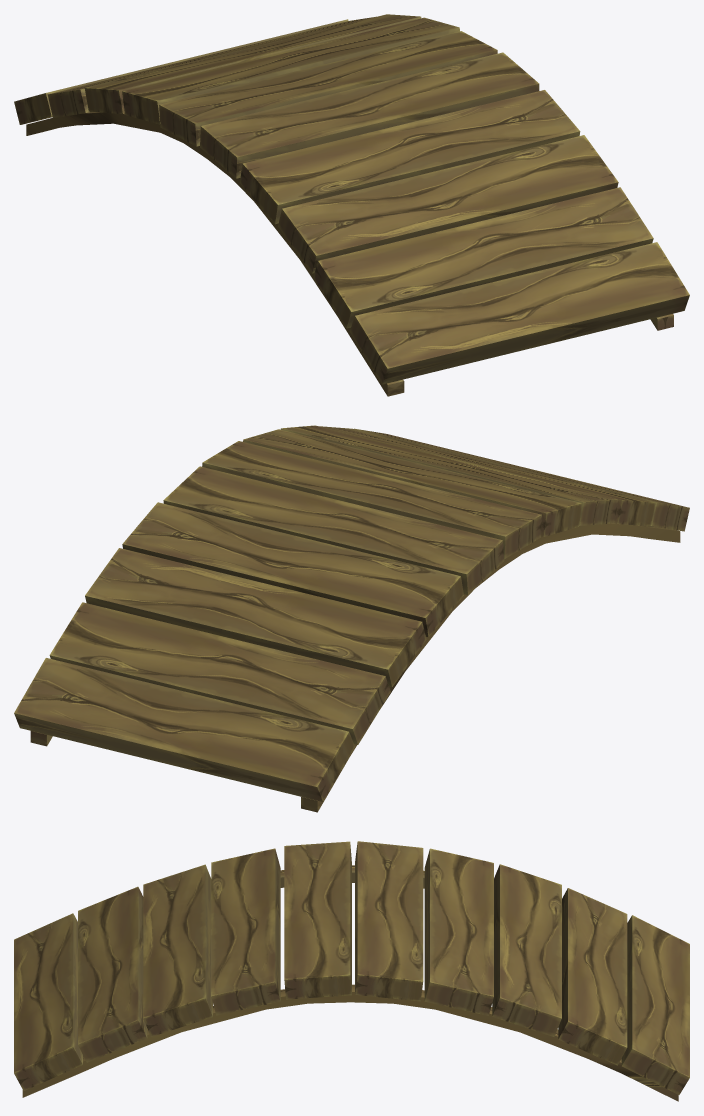
File: bridge.ALT3.fbx
The picture shows the model from 3 angles, top to bottom: view 1: azimuth 30°, elevation 25°; view 2: azimuth 150°, elevation 25°; view 3: azimuth 270°, elevation 25°; orthographic projection. The views are drawn at different scales.
Parts seen in each view (by area): view 1: Cube.029, Cube.028, Cube.027, Cube.026, Cube.025, Cube.024, Cube.023, Cube.022, Cube.018, Cube.019, Cube.014; view 2: Cube.014, Cube.019, Cube.022, Cube.023, Cube.024, Cube.025, Cube.026, Cube.027, Cube.018, Cube.028, Cube.029; view 3: Cube.026, Cube.023, Cube.024, Cube.027, Cube.022, Cube.025, Cube.019, Cube.028, Cube.029, Cube.014, Cube.018.
Part boxes in pixels (bbox=[...]): Cube.029: bbox=[349, 242, 689, 384]; Cube.028: bbox=[313, 187, 653, 328]; Cube.027: bbox=[278, 135, 618, 273]; Cube.026: bbox=[239, 90, 580, 224]; Cube.025: bbox=[200, 52, 539, 178]; Cube.024: bbox=[159, 31, 497, 146]; Cube.023: bbox=[122, 17, 459, 124]; Cube.022: bbox=[84, 14, 421, 113]; Cube.018: bbox=[26, 112, 673, 396]; Cube.019: bbox=[47, 17, 374, 117]; Cube.014: bbox=[14, 19, 348, 124]; Cube.014: bbox=[14, 658, 354, 801]; Cube.019: bbox=[49, 602, 390, 744]; Cube.022: bbox=[85, 548, 426, 686]; Cube.023: bbox=[122, 502, 463, 637]; Cube.024: bbox=[163, 466, 504, 594]; Cube.025: bbox=[202, 441, 541, 559]; Cube.026: bbox=[243, 429, 581, 536]; Cube.027: bbox=[280, 425, 618, 525]; Cube.018: bbox=[30, 523, 680, 812]; Cube.028: bbox=[320, 426, 655, 526]; Cube.029: bbox=[354, 428, 689, 531]; Cube.026: bbox=[211, 848, 280, 1015]; Cube.023: bbox=[424, 848, 493, 1015]; Cube.024: bbox=[355, 841, 423, 1001]; Cube.027: bbox=[143, 864, 212, 1036]; Cube.022: bbox=[492, 864, 561, 1036]; Cube.025: bbox=[284, 841, 351, 999]; Cube.019: bbox=[558, 888, 627, 1065]; Cube.028: bbox=[78, 886, 147, 1062]; Cube.029: bbox=[14, 913, 82, 1090]; Cube.014: bbox=[621, 915, 689, 1094]; Cube.018: bbox=[22, 865, 678, 1101].
Bounding box in the file's own units: 291 × 131 × 614.
1 material, 1 textured.
